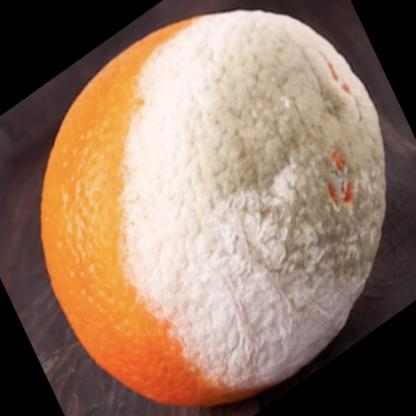rotten: (41, 12, 387, 404)
